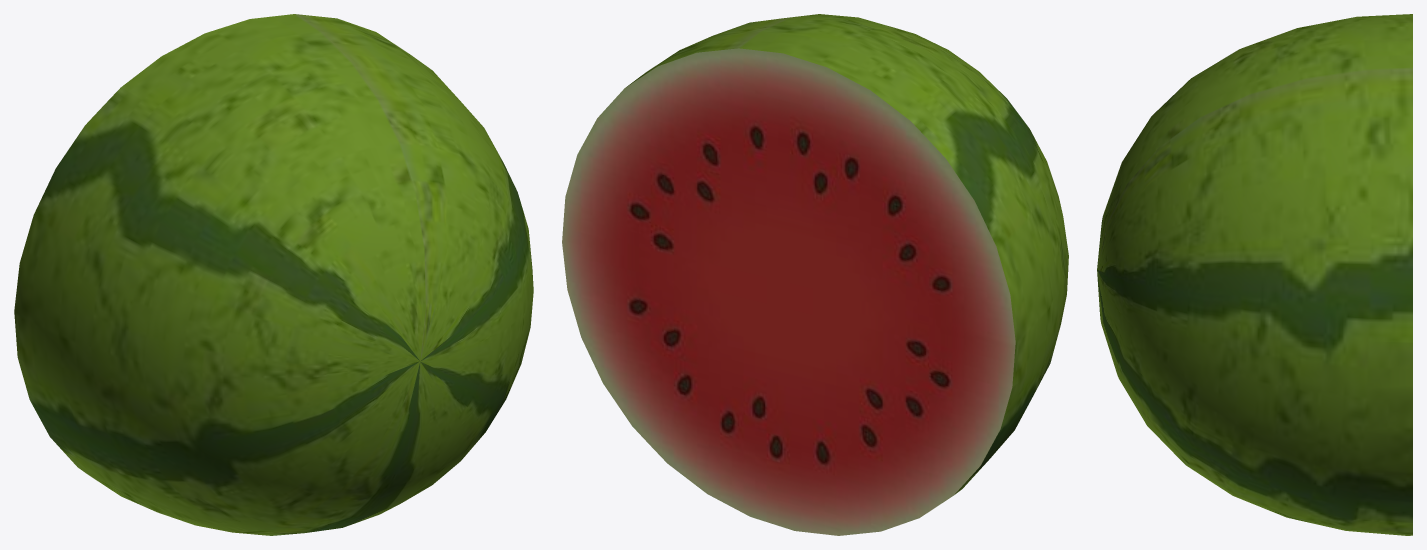
Rendered from watermelon_half1.obj.
3 views of the same model, side by side, from view 1: azimuth 30°, elevation 25°; view 2: azimuth 150°, elevation 25°; view 3: azimuth 270°, elevation 25° (orthographic).
Parts seen in each view (by area): view 1: Sphere01; view 2: Sphere01; view 3: Sphere01.
Part boxes in pixels (x1,y1,x2,y2): Sphere01: (14, 14, 533, 535); Sphere01: (562, 14, 1068, 535); Sphere01: (1097, 14, 1412, 535).
Bounding box in the file's own units: 71.51 × 71.54 × 43.24.
Materials: 2 (2 with a texture image).
